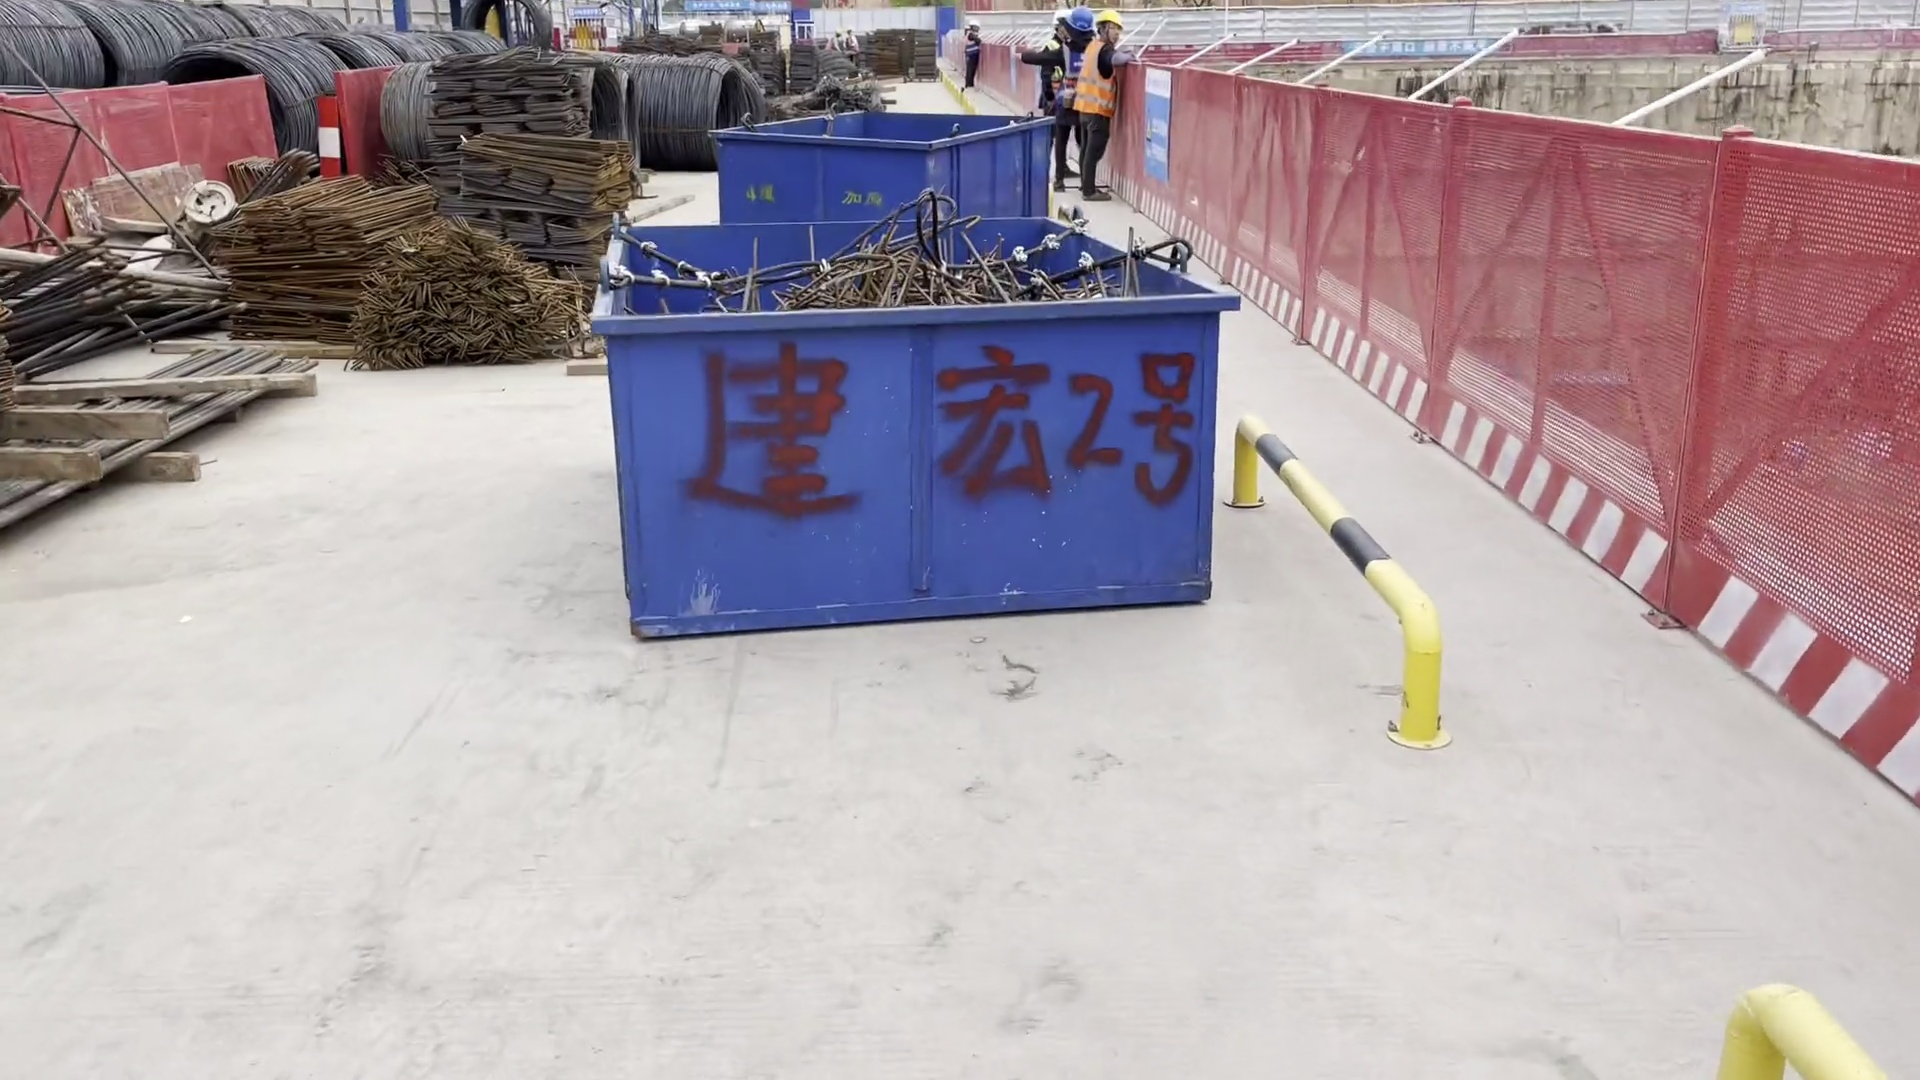fence: (975, 39, 1920, 815), (1122, 31, 1920, 68)
helmet: (1069, 12, 1091, 31), (1097, 14, 1120, 28), (1053, 12, 1068, 27), (968, 20, 981, 27), (835, 31, 841, 35)
hopper: (585, 218, 1244, 643), (701, 98, 1088, 224)
person: (1077, 11, 1129, 193), (1036, 13, 1078, 126), (959, 18, 984, 91), (823, 27, 842, 53), (844, 30, 860, 52)
slogan: (1347, 27, 1496, 61)
vest: (1078, 43, 1115, 118), (963, 29, 981, 57), (846, 36, 857, 51), (825, 38, 837, 52)
